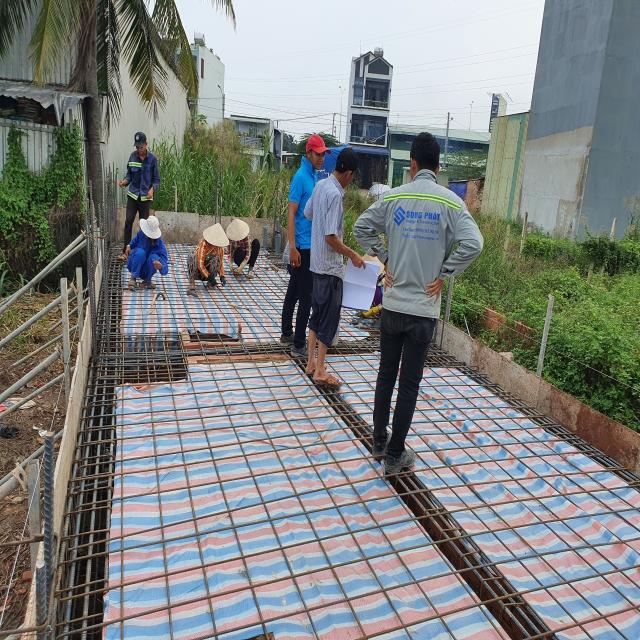boots: (383, 448, 416, 475), (371, 431, 392, 458), (290, 343, 318, 360), (279, 331, 297, 348)
gloves: (234, 260, 248, 275), (206, 274, 218, 287), (227, 257, 235, 272), (219, 276, 227, 288)
no_boots: (312, 369, 343, 389), (304, 360, 327, 376), (142, 278, 157, 291), (116, 250, 128, 262), (128, 276, 137, 288), (206, 280, 216, 290), (187, 280, 196, 290), (248, 268, 255, 280)
no_gloves: (424, 273, 444, 302), (380, 257, 396, 292), (350, 251, 368, 272), (288, 249, 302, 269), (153, 259, 163, 270), (146, 187, 154, 200), (125, 245, 132, 259), (118, 179, 125, 189)
no_hardhat: (406, 133, 443, 179), (136, 210, 174, 244), (333, 148, 360, 186), (305, 134, 332, 170), (202, 222, 230, 247), (226, 217, 251, 241), (132, 131, 148, 156)
no_vest: (302, 176, 349, 279), (288, 157, 320, 254), (130, 229, 169, 278), (196, 237, 225, 279), (226, 232, 253, 266)
person: (353, 132, 487, 474), (302, 146, 360, 390), (276, 132, 331, 360), (115, 131, 160, 262), (126, 214, 170, 290), (186, 222, 230, 290), (226, 218, 260, 280)
vest: (353, 181, 487, 321), (124, 148, 160, 202)
